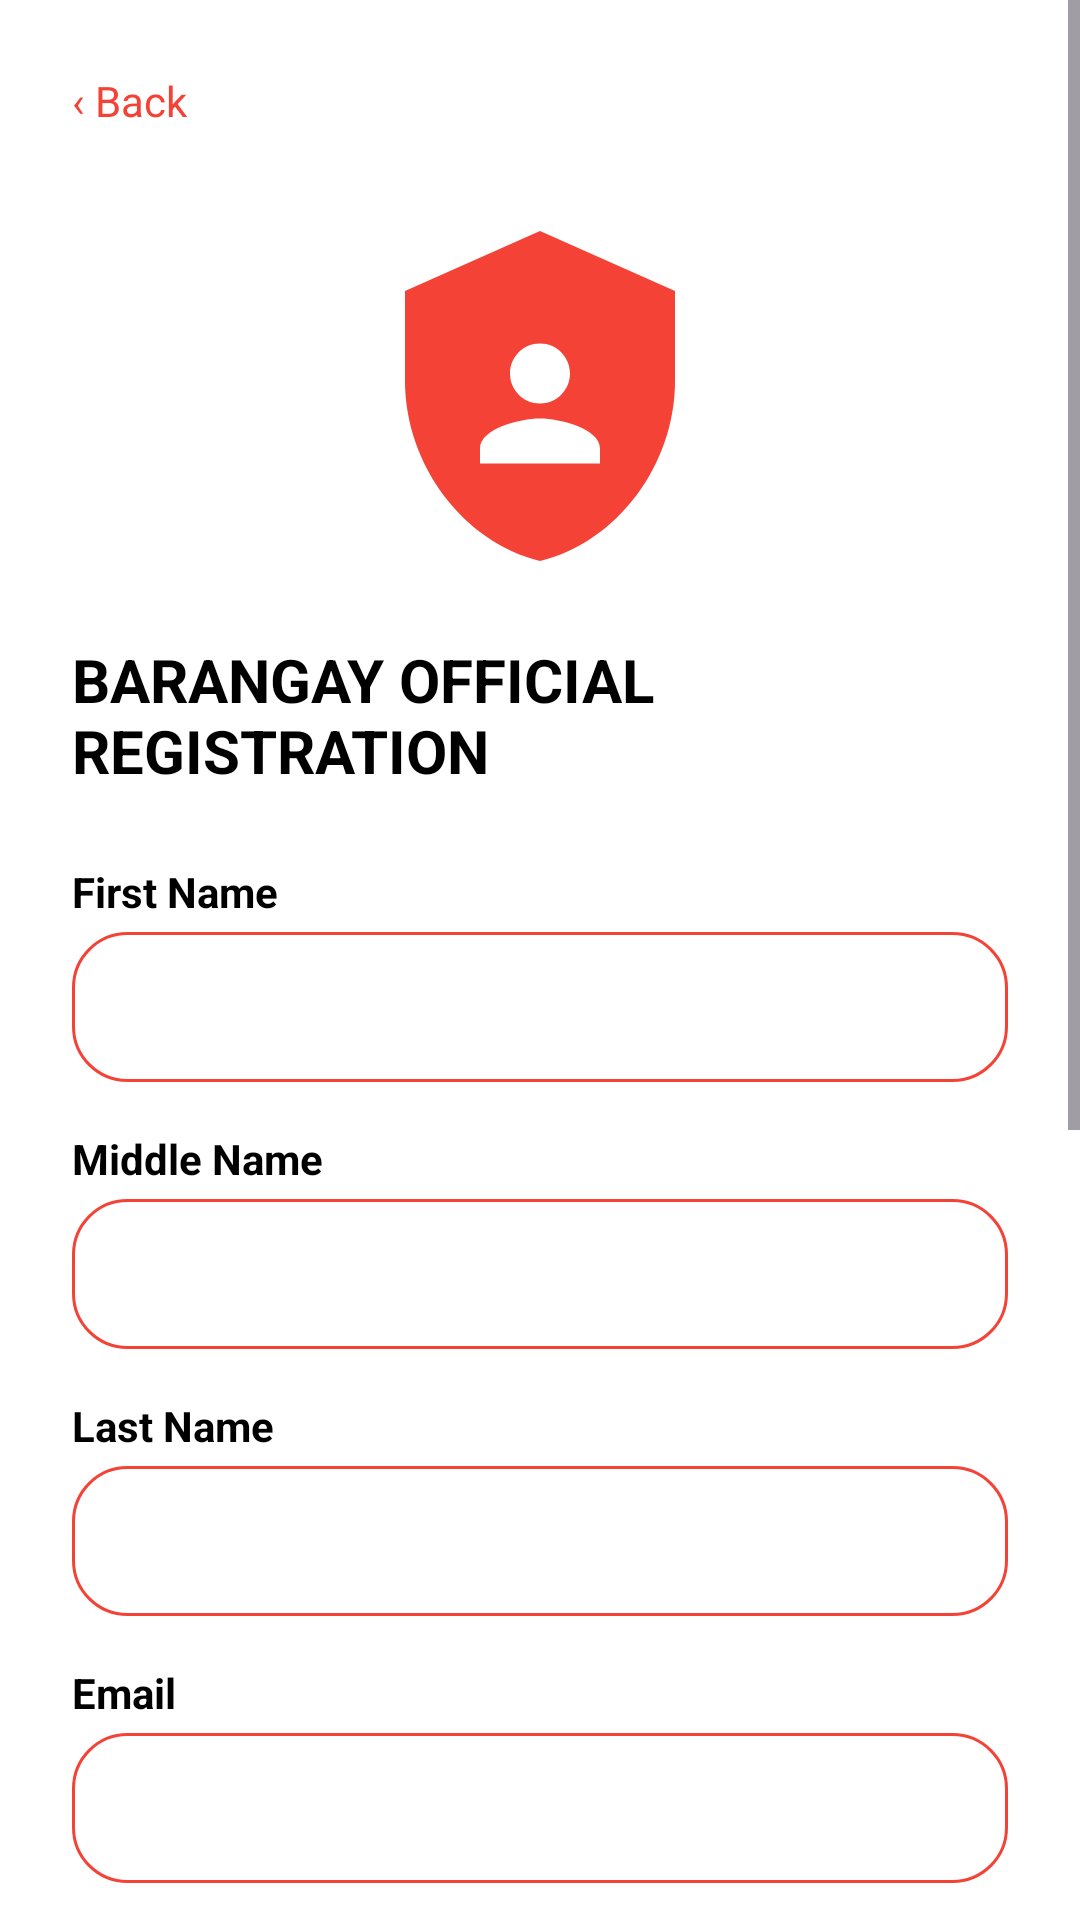

Icons on this 1080 x 1920 Android screen, each with its box as (x1, y1, x2, y2):
admin: (405, 231, 675, 561)
